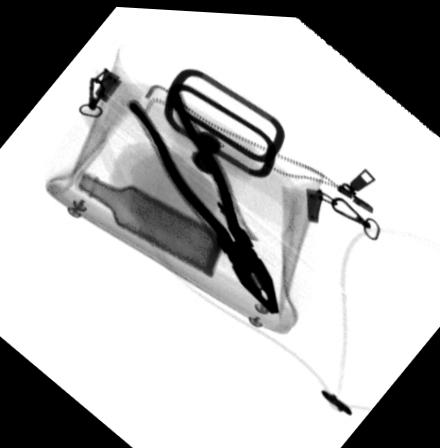Pliers: (124, 79, 281, 312)
